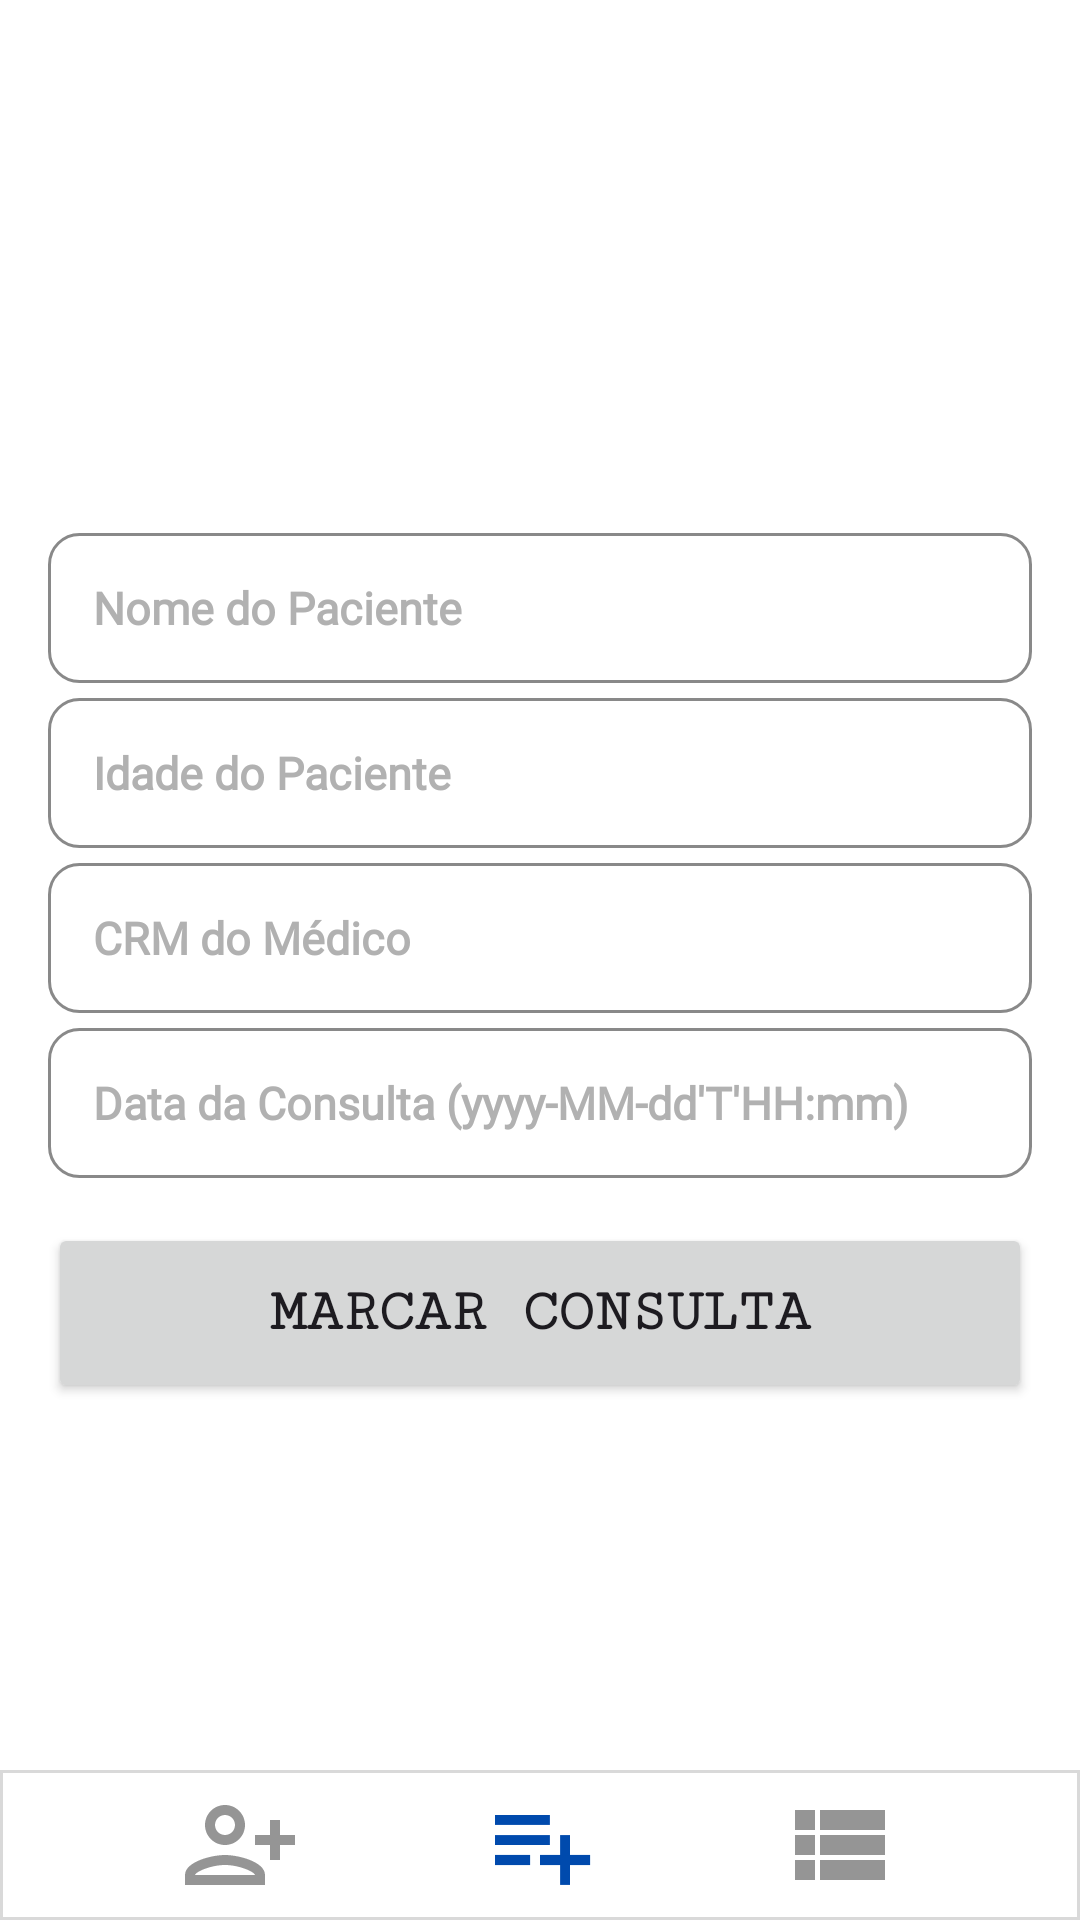

Icons on this 1080 x 1920 Android screen, each with the point to tap as [x,y]:
person add two: [240,1845]
playlist add: [543,1850]
view list two: [840,1845]
